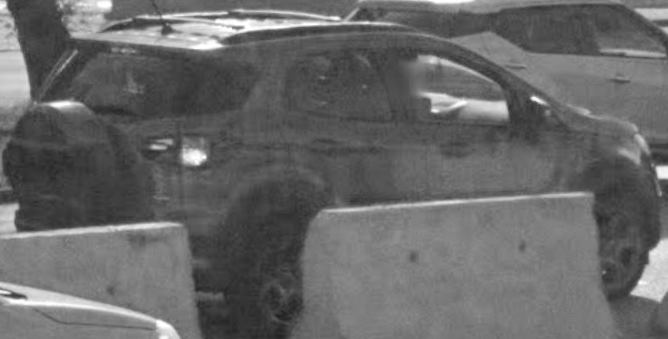car: (9, 13, 653, 212)
